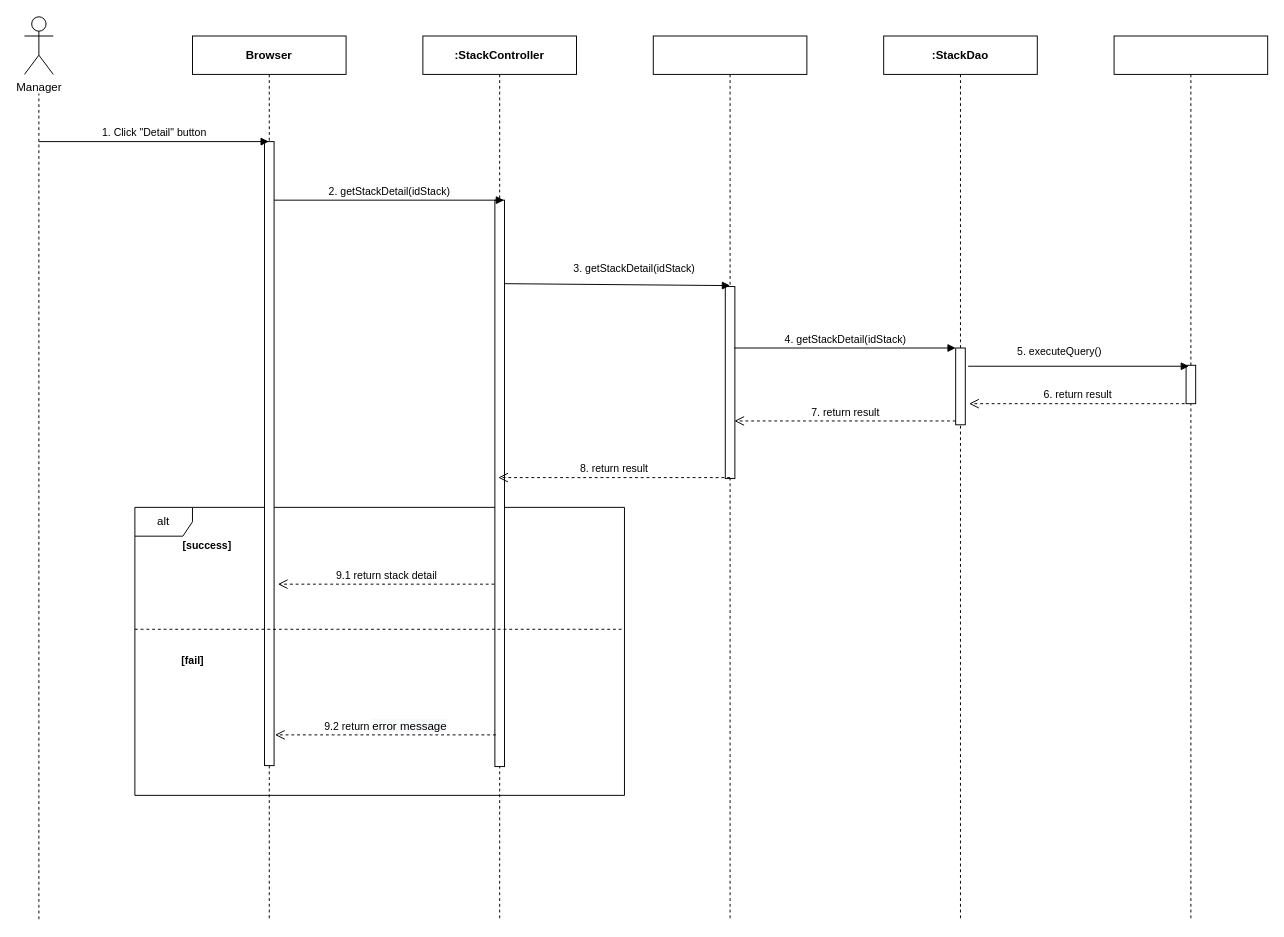
The diagram is 1284 pixels wide and 937 high, and some of its shapes have lost their labels. The box of each missing label's shape, as (x1, y1, x2, y2) in pixels:
:Stack Service: (652, 35, 807, 919)
Database: (1113, 35, 1268, 919)
